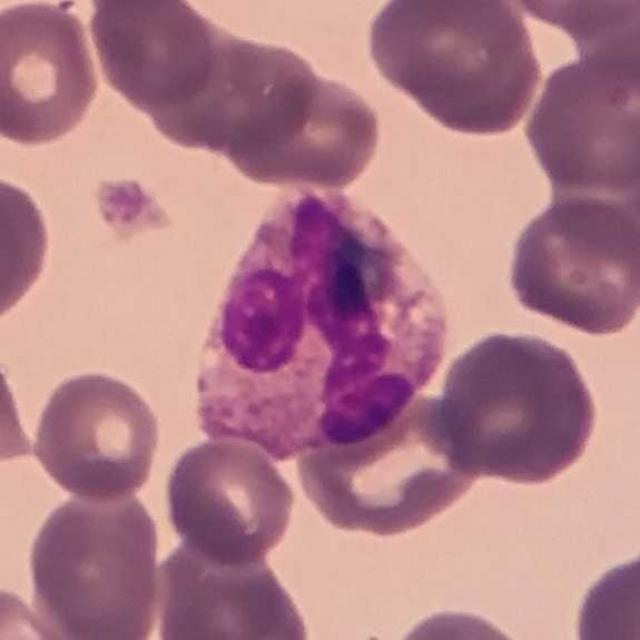Neutrophil: (178, 172, 462, 468)
Platelets: (92, 175, 166, 238)
RBC: (290, 382, 487, 540), (430, 326, 603, 487), (362, 0, 545, 137), (24, 478, 165, 640), (146, 32, 320, 158), (225, 69, 385, 193), (503, 194, 640, 338), (160, 433, 300, 570), (521, 39, 640, 198), (29, 366, 165, 504), (150, 532, 316, 640), (0, 0, 104, 148), (85, 0, 222, 112), (0, 168, 56, 328), (567, 542, 640, 640), (383, 602, 540, 640), (489, 0, 640, 33), (0, 344, 38, 471), (0, 581, 77, 640), (76, 0, 198, 17)
